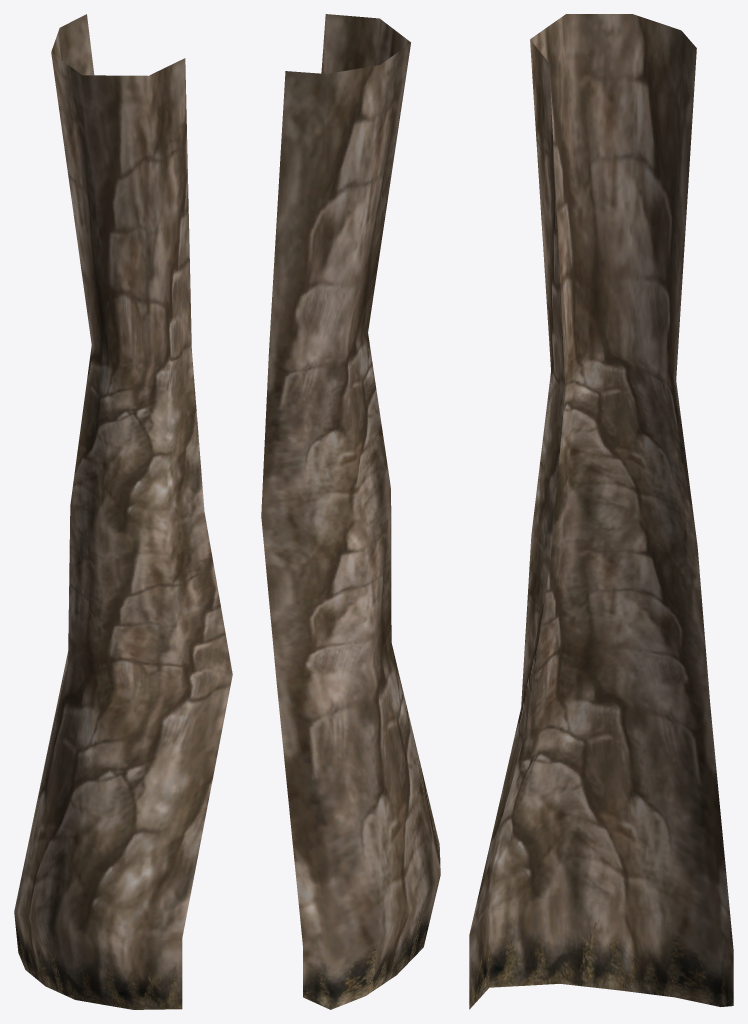
File: OVERHILL_A_01_LINE327.fbx
3 renders of one model, left to right at view 1: azimuth 30°, elevation 25°; view 2: azimuth 150°, elevation 25°; view 3: azimuth 270°, elevation 25°, orthographic. The views are drawn at different scales.
Visible parts, largest first — view 1: OVERHILL_A_01_LINE327; view 2: OVERHILL_A_01_LINE327; view 3: OVERHILL_A_01_LINE327.
Boxes of the visible parts, left/top/right/bottom form: OVERHILL_A_01_LINE327: left=14, top=14, right=232, bottom=1009; OVERHILL_A_01_LINE327: left=261, top=14, right=440, bottom=1009; OVERHILL_A_01_LINE327: left=469, top=14, right=733, bottom=1009.
Size of the model in its own units: 15219 by 86184 by 20902.
2 materials, 2 textured.
